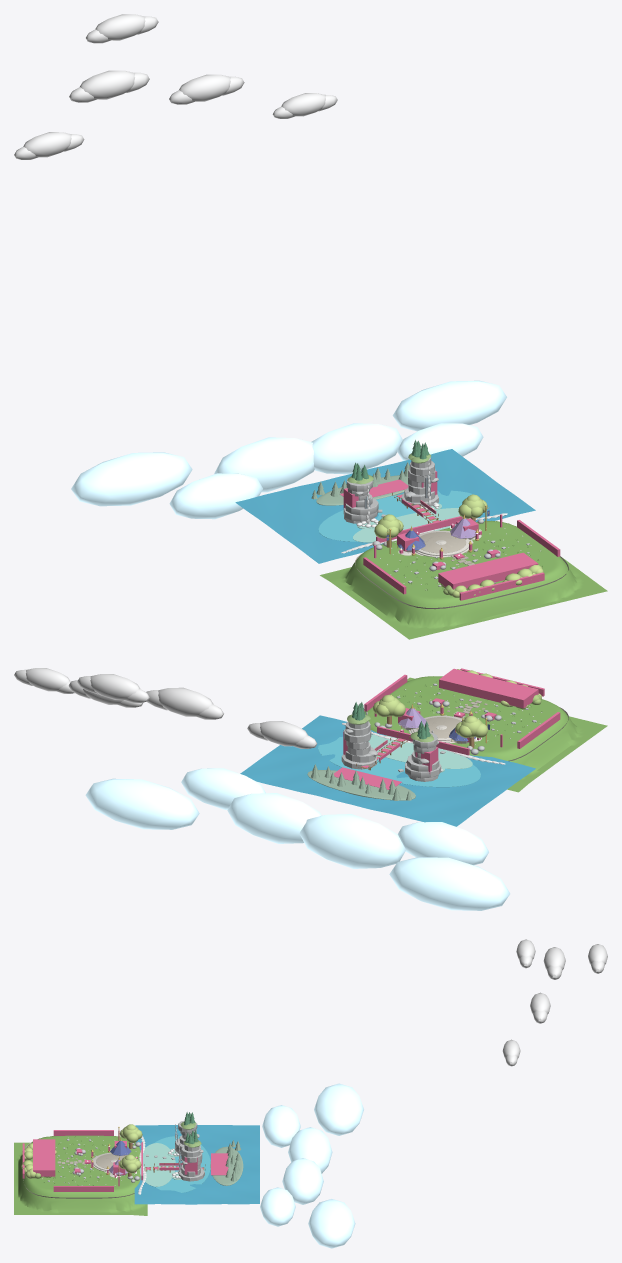
The model's file is Moonlake_HD25D_HeroSlice_v0.fbx.
The picture shows the model from 3 angles, top to bottom: view 1: azimuth 30°, elevation 25°; view 2: azimuth 150°, elevation 25°; view 3: azimuth 270°, elevation 25°; orthographic projection. The views are drawn at different scales.
Visible parts, largest first — view 1: ENV_backdrop_distant_hills, ENV_ground_island, ENV_water_lake_deep, ENV_backdrop_clouds, ENV_water_lake_mid, OCC_foreground_bush_band, ENV_cliff_tower_right, ENV_water_lake_shallow, ENV_cliff_tower_left; view 2: ENV_backdrop_distant_hills, ENV_water_lake_deep, ENV_ground_island, ENV_backdrop_clouds, OCC_foreground_bush_band, ENV_water_lake_mid, ENV_cliff_tower_right, ENV_water_lake_shallow, ENV_cliff_tower_left, ENV_ground_far_bank, ENV_backdrop_far_treeline, WALK_far_bank (+6 smaller); view 3: ENV_backdrop_distant_hills, ENV_ground_island, ENV_water_lake_deep, ENV_backdrop_clouds, ENV_water_lake_shallow, ENV_water_lake_mid, OCC_foreground_bush_band, ENV_cliff_tower_right, ENV_ground_far_bank.
Part boxes in pixels (x1=…): ENV_backdrop_distant_hills: x1=71, y1=380, x2=506, y2=519; ENV_ground_island: x1=320, y1=520, x2=607, y2=639; ENV_water_lake_deep: x1=235, y1=449, x2=535, y2=563; ENV_backdrop_clouds: x1=14, y1=14, x2=337, y2=159; ENV_water_lake_mid: x1=318, y1=490, x2=473, y2=541; OCC_foreground_bush_band: x1=438, y1=552, x2=538, y2=589; ENV_cliff_tower_right: x1=401, y1=457, x2=438, y2=507; ENV_water_lake_shallow: x1=353, y1=508, x2=470, y2=542; ENV_cliff_tower_left: x1=343, y1=478, x2=378, y2=523; ENV_backdrop_distant_hills: x1=85, y1=768, x2=510, y2=910; ENV_water_lake_deep: x1=240, y1=715, x2=535, y2=826; ENV_ground_island: x1=364, y1=676, x2=607, y2=792; ENV_backdrop_clouds: x1=14, y1=668, x2=317, y2=748; OCC_foreground_bush_band: x1=439, y1=668, x2=538, y2=708; ENV_water_lake_mid: x1=318, y1=737, x2=480, y2=787; ENV_cliff_tower_right: x1=341, y1=721, x2=377, y2=769; ENV_water_lake_shallow: x1=368, y1=734, x2=472, y2=768; ENV_cliff_tower_left: x1=405, y1=732, x2=441, y2=781; ENV_ground_far_bank: x1=307, y1=770, x2=415, y2=800; ENV_backdrop_far_treeline: x1=311, y1=764, x2=411, y2=800; WALK_far_bank: x1=334, y1=767, x2=401, y2=789; ENV_backdrop_distant_hills: x1=260, y1=1083, x2=363, y2=1248; ENV_ground_island: x1=14, y1=1135, x2=147, y2=1215; ENV_water_lake_deep: x1=134, y1=1125, x2=259, y2=1204; ENV_backdrop_clouds: x1=502, y1=939, x2=607, y2=1066; ENV_water_lake_shallow: x1=139, y1=1143, x2=175, y2=1186; ENV_water_lake_mid: x1=154, y1=1136, x2=210, y2=1192; OCC_foreground_bush_band: x1=33, y1=1139, x2=55, y2=1176; ENV_cliff_tower_right: x1=179, y1=1144, x2=204, y2=1181; ENV_ground_far_bank: x1=210, y1=1146, x2=243, y2=1185.
Size of what is drawn, in the model's own units: 5043 by 3659 by 8260.
